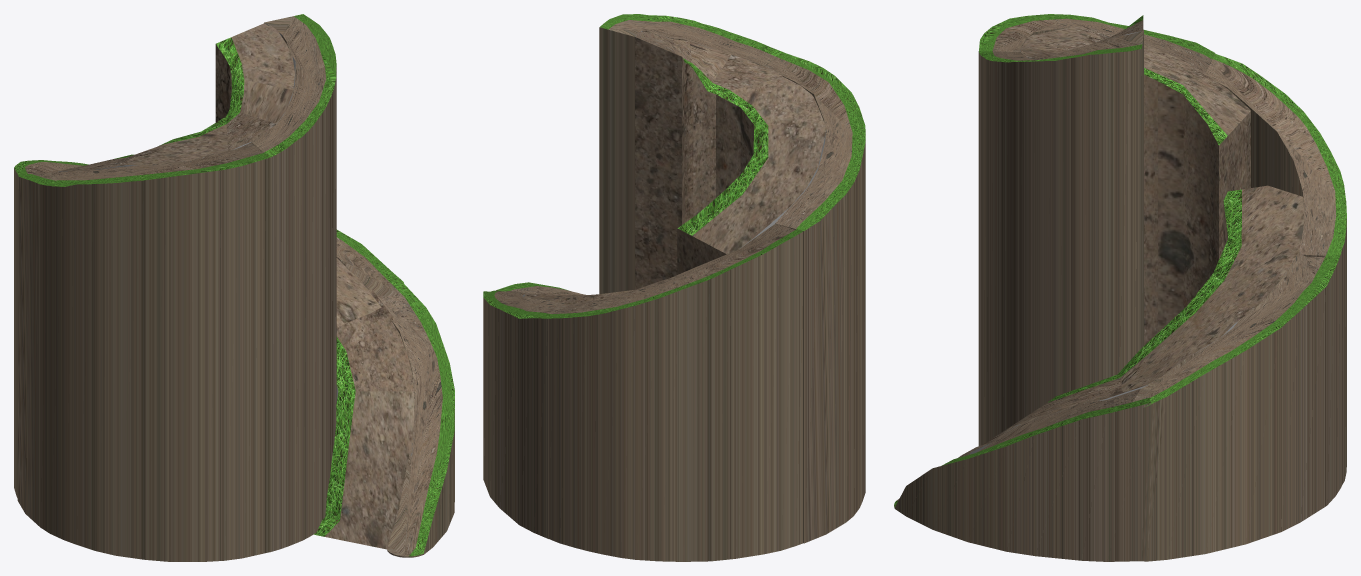
File: spiraltest2.fbx
3 views of the same model, side by side, from view 1: azimuth 30°, elevation 25°; view 2: azimuth 150°, elevation 25°; view 3: azimuth 270°, elevation 25° (orthographic). The views are drawn at different scales.
Visible parts, largest first — view 1: pPlane4, pPlane5, pPlane6, pPlane1, pPlane9, pPlane8, pPlane2, pPlane3, pPlane7; view 2: pPlane3, pPlane4, pPlane9, pPlane8, pPlane2, pPlane5, pPlane7, pPlane1; view 3: pPlane5, pPlane2, pPlane1, pPlane8, pPlane7, pPlane3, pPlane4, pPlane6, pPlane9.
Part boxes in pixels (<box>): pPlane4: <box>17,142,269,561</box>; pPlane5: <box>251,14,336,552</box>; pPlane6: <box>314,289,415,549</box>; pPlane1: <box>377,282,454,557</box>; pPlane9: <box>215,23,294,150</box>; pPlane8: <box>58,117,228,171</box>; pPlane2: <box>336,229,403,296</box>; pPlane3: <box>14,160,88,497</box>; pPlane7: <box>336,258,381,327</box>; pPlane3: <box>546,224,803,561</box>; pPlane4: <box>764,53,865,543</box>; pPlane9: <box>635,32,782,289</box>; pPlane8: <box>677,77,826,274</box>; pPlane2: <box>483,290,571,538</box>; pPlane5: <box>599,14,784,293</box>; pPlane7: <box>522,289,635,304</box>; pPlane1: <box>495,282,586,295</box>; pPlane5: <box>978,30,1143,445</box>; pPlane2: <box>1126,251,1341,561</box>; pPlane1: <box>894,388,1150,561</box>; pPlane8: <box>1023,26,1250,345</box>; pPlane7: <box>1117,185,1303,391</box>; pPlane3: <box>1205,53,1346,485</box>; pPlane4: <box>979,14,1215,73</box>; pPlane6: <box>970,374,1149,454</box>; pPlane9: <box>1020,15,1143,59</box>.
Size of the model in its own units: 20.43 by 24.2 by 21.49.
3 materials, 2 textured.
